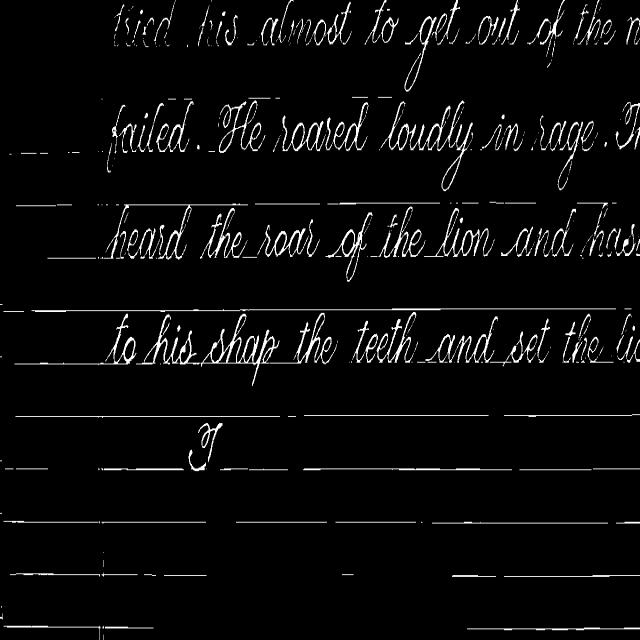noise: (2, 307, 619, 314), (299, 466, 640, 474), (3, 624, 154, 639), (10, 568, 207, 578), (16, 414, 280, 420), (466, 626, 640, 633), (2, 520, 206, 525), (502, 573, 640, 580), (430, 519, 611, 524), (122, 203, 250, 209), (503, 412, 640, 417), (303, 413, 489, 416), (80, 467, 184, 472), (14, 362, 107, 367), (326, 202, 442, 206), (220, 467, 297, 473), (2, 466, 64, 472), (236, 520, 328, 524), (334, 519, 417, 523), (450, 573, 499, 579), (254, 202, 321, 206), (17, 150, 60, 155), (575, 202, 608, 208), (489, 200, 537, 204), (269, 358, 298, 364), (16, 203, 72, 206), (338, 569, 354, 579), (62, 148, 80, 154), (48, 257, 101, 259), (614, 520, 640, 524), (206, 146, 216, 155), (243, 254, 257, 259), (378, 95, 392, 99), (351, 95, 369, 98), (368, 252, 378, 257), (97, 203, 113, 206), (8, 151, 16, 155), (424, 253, 434, 256), (609, 202, 618, 204)
not-noise: (113, 3, 616, 61), (380, 101, 473, 191), (218, 98, 369, 151), (501, 203, 640, 258), (106, 99, 194, 172), (190, 313, 280, 376), (102, 204, 192, 259), (404, 2, 458, 92), (539, 116, 598, 189), (420, 316, 500, 361), (353, 311, 418, 363), (326, 212, 372, 282), (436, 208, 494, 256), (142, 313, 196, 364), (200, 207, 248, 258), (258, 220, 319, 257), (380, 207, 424, 257), (294, 312, 336, 364), (563, 313, 607, 362), (504, 318, 550, 364), (188, 422, 222, 468), (481, 115, 524, 150), (106, 314, 136, 364), (616, 313, 640, 362), (616, 101, 640, 148), (626, 16, 640, 44), (504, 124, 518, 139), (196, 144, 200, 149), (604, 141, 607, 147)
